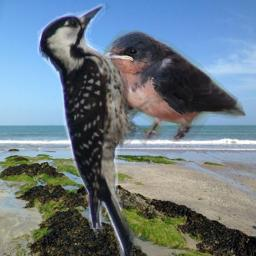Swallow: (100, 30, 246, 142)
Woodpecker: (36, 1, 172, 256)
